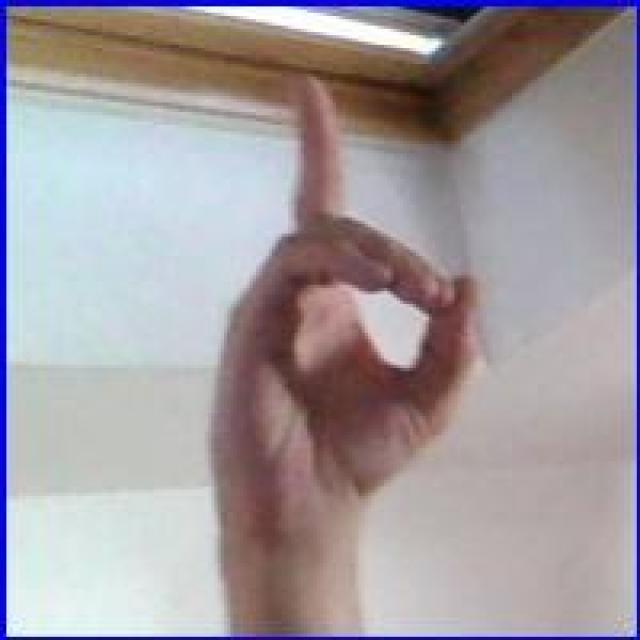D: (190, 69, 485, 574)
